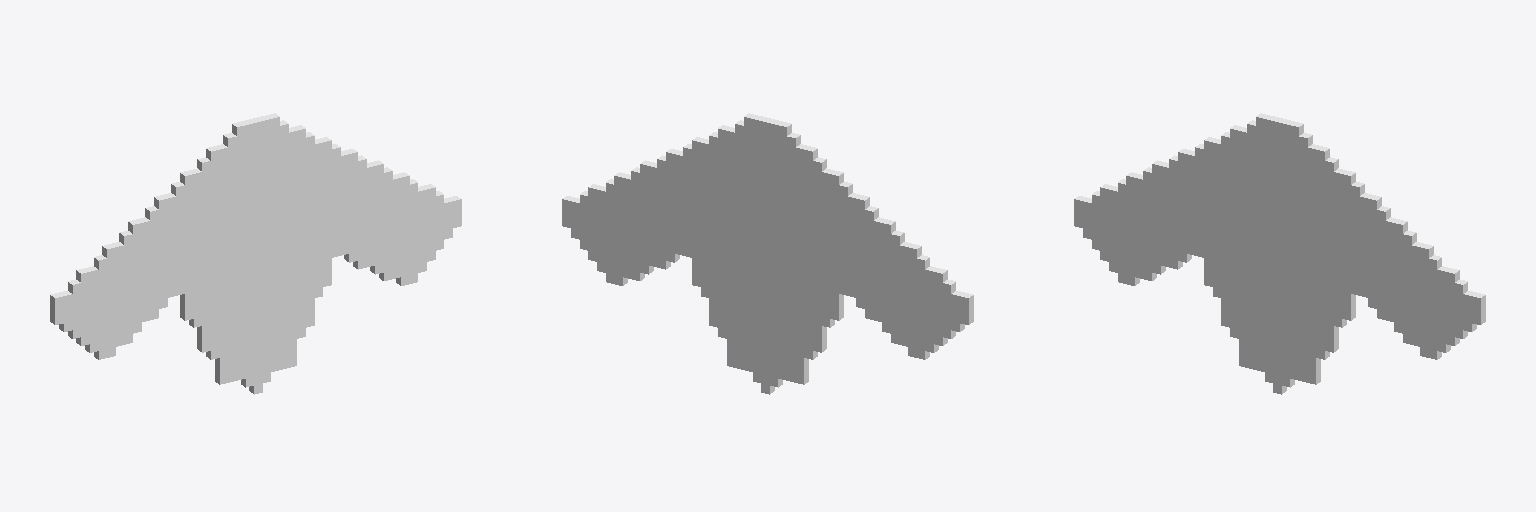
The model's file is Furtif.obj.
3 views of the same model, side by side, from view 1: azimuth 30°, elevation 25°; view 2: azimuth 150°, elevation 25°; view 3: azimuth 330°, elevation 25° (orthographic).
Parts seen in each view (by area): view 1: Furtif; view 2: Furtif; view 3: Furtif.
Part boxes in pixels (x1,y1,x2,y2): Furtif: (50,113,461,394); Furtif: (562,113,973,394); Furtif: (1074,113,1485,394).
Bounding box in the file's own units: 47 × 30 × 1.